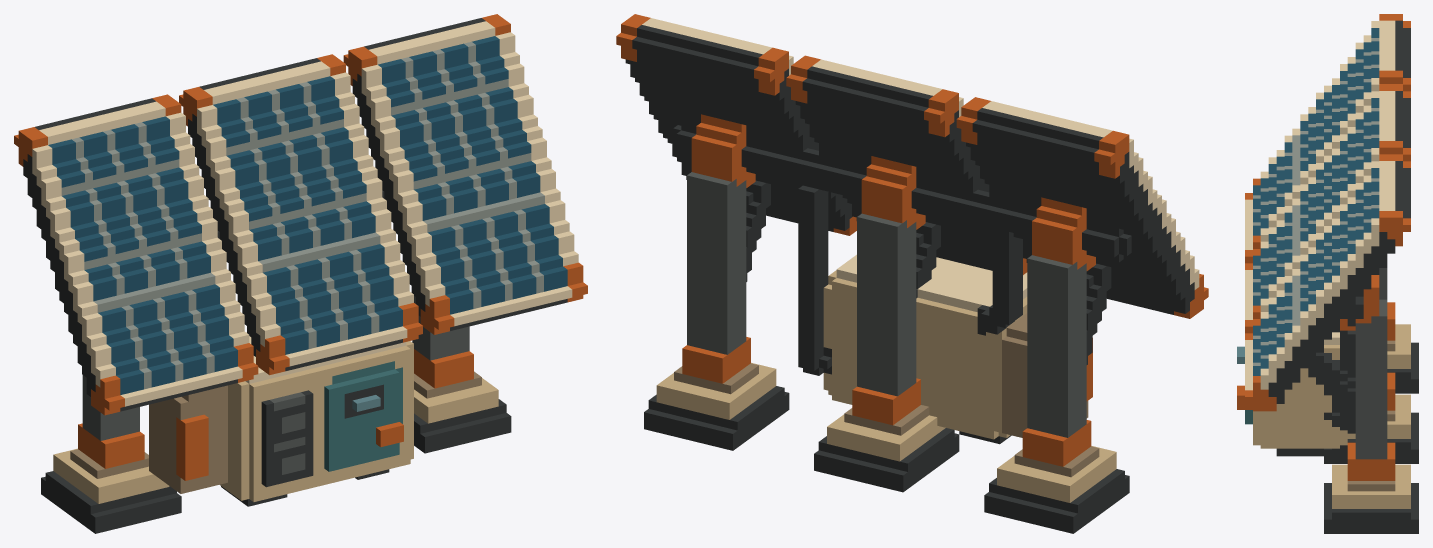
File: solar_array.glb
3 views of the same model, side by side, from view 1: azimuth 30°, elevation 25°; view 2: azimuth 150°, elevation 25°; view 3: azimuth 270°, elevation 25° (orthographic). The views are drawn at different scales.
Visible parts, largest first — view 1: solar_array; view 2: solar_array; view 3: solar_array.
Part boxes in pixels (bbox=[...]): solar_array: bbox=[14, 14, 587, 533]; solar_array: bbox=[616, 14, 1208, 533]; solar_array: bbox=[1237, 14, 1418, 533].
Size of the model in its own units: 5.49 by 4.14 by 2.07.
